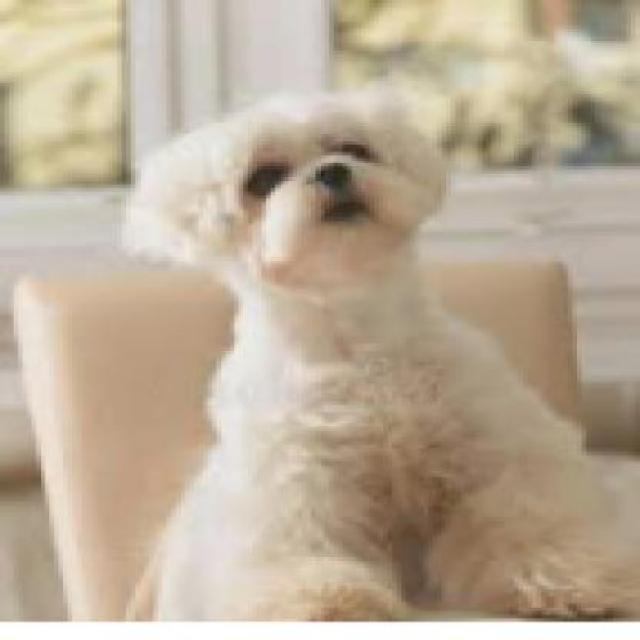Dog: (95, 84, 632, 614)
